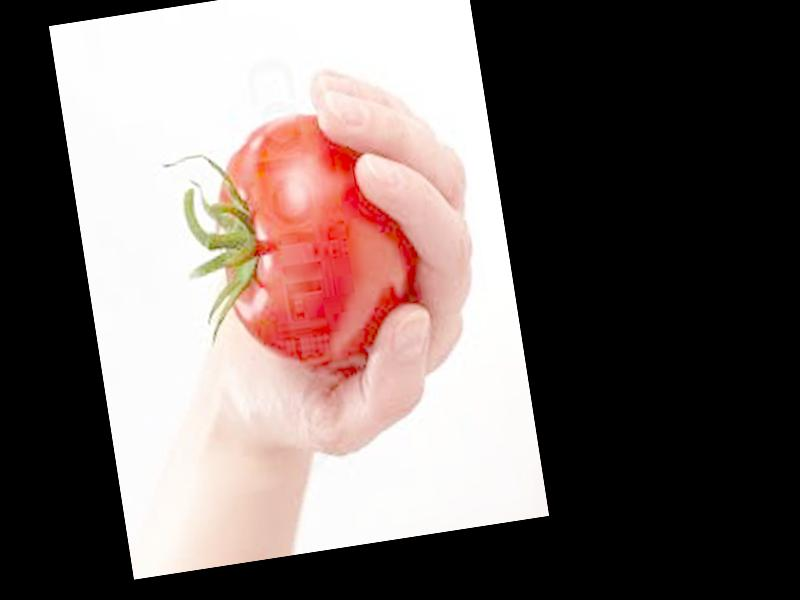Tomato: (199, 100, 427, 372)
